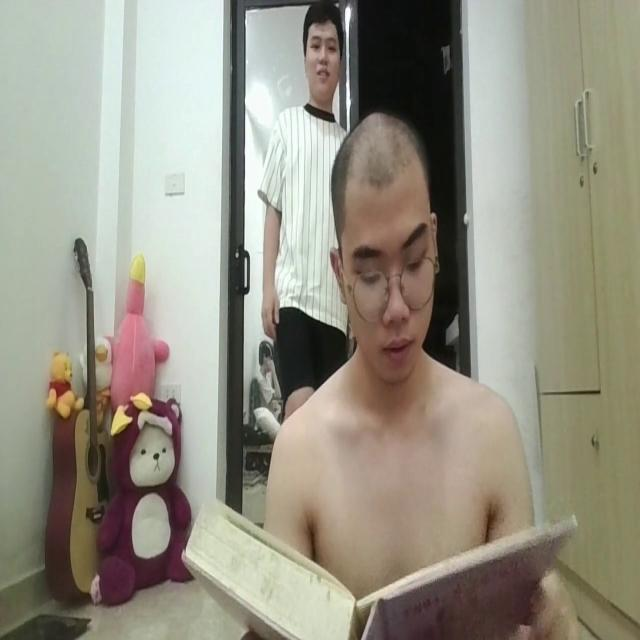book: (156, 470, 593, 640)
extra_person: (244, 0, 380, 478)
student: (262, 106, 542, 640)
